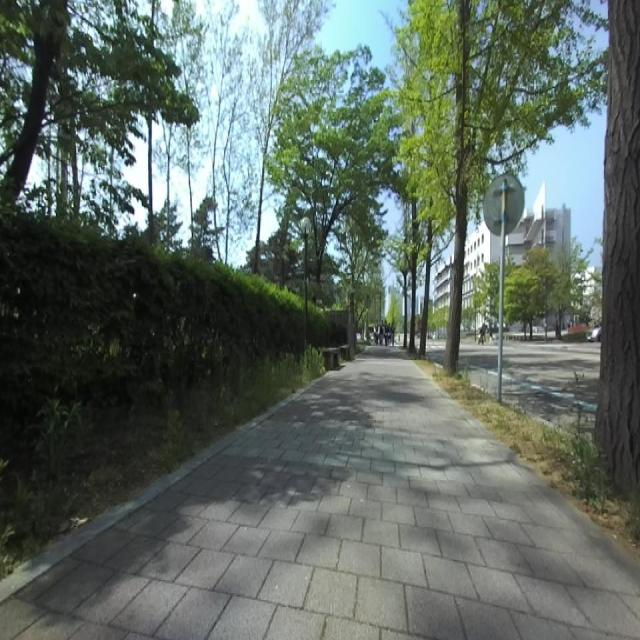sidewalk: (1, 346, 640, 639)
